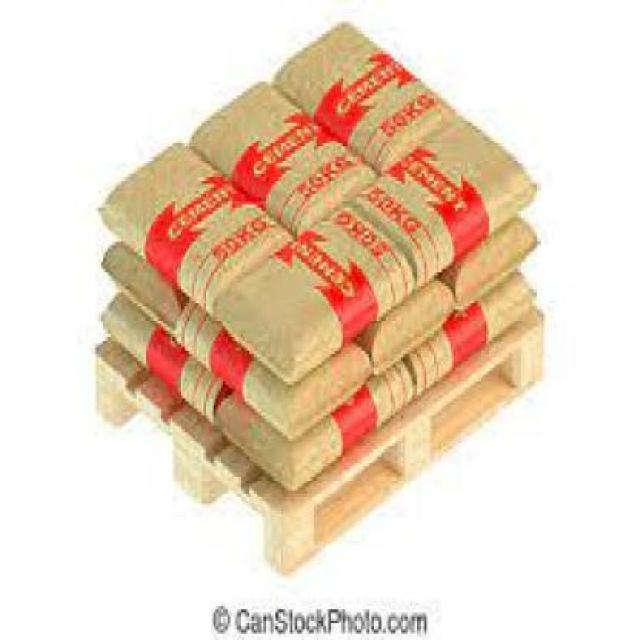gunny_bag: (99, 139, 291, 316), (275, 26, 460, 175), (188, 86, 380, 227), (99, 295, 228, 421), (294, 358, 418, 488), (405, 280, 540, 396), (294, 263, 414, 376), (412, 178, 535, 287), (372, 277, 455, 378), (445, 222, 534, 313), (289, 342, 371, 436), (103, 242, 186, 332)
